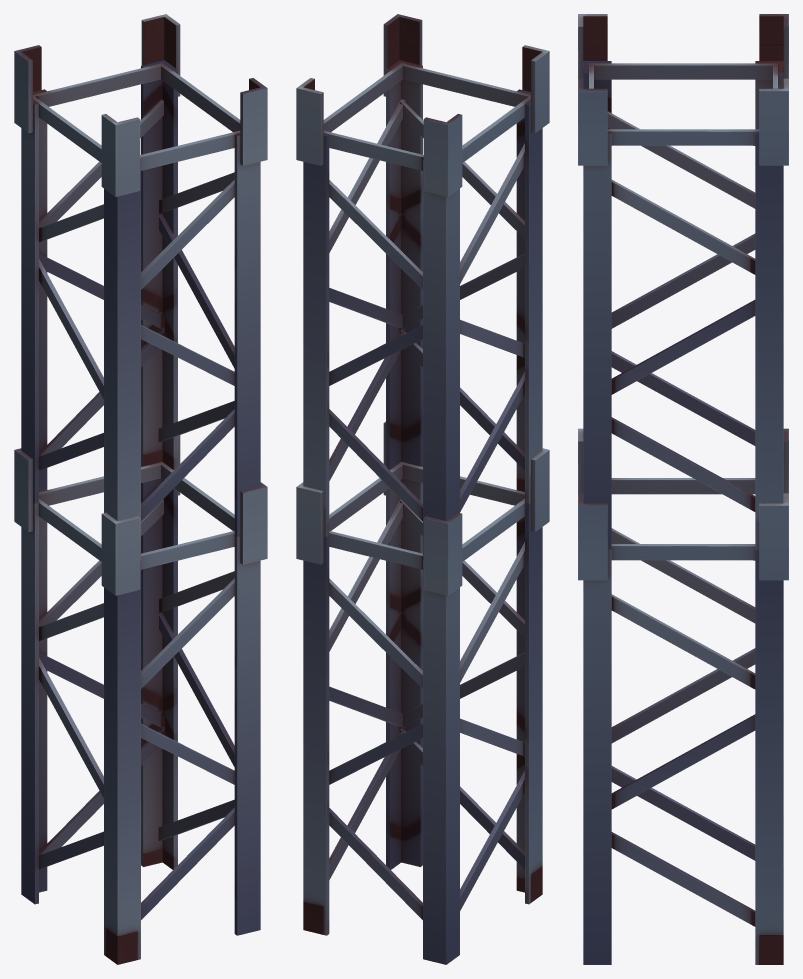
The model's file is MetalPillar2.glb.
3 renders of one model, left to right at view 1: azimuth 30°, elevation 25°; view 2: azimuth 150°, elevation 25°; view 3: azimuth 270°, elevation 25°, orthographic. The views are drawn at different scales.
Parts seen in each view (by area): view 1: MetalPillar2; view 2: MetalPillar2; view 3: MetalPillar2.
Boxes of the visible parts, left/top/right/bottom form: MetalPillar2: left=14, top=14, right=267, bottom=964; MetalPillar2: left=296, top=14, right=549, bottom=964; MetalPillar2: left=578, top=14, right=788, bottom=964.
Bounding box in the file's own units: 0.7935 × 4.21 × 0.9167.
Materials: 1 (1 with a texture image).
